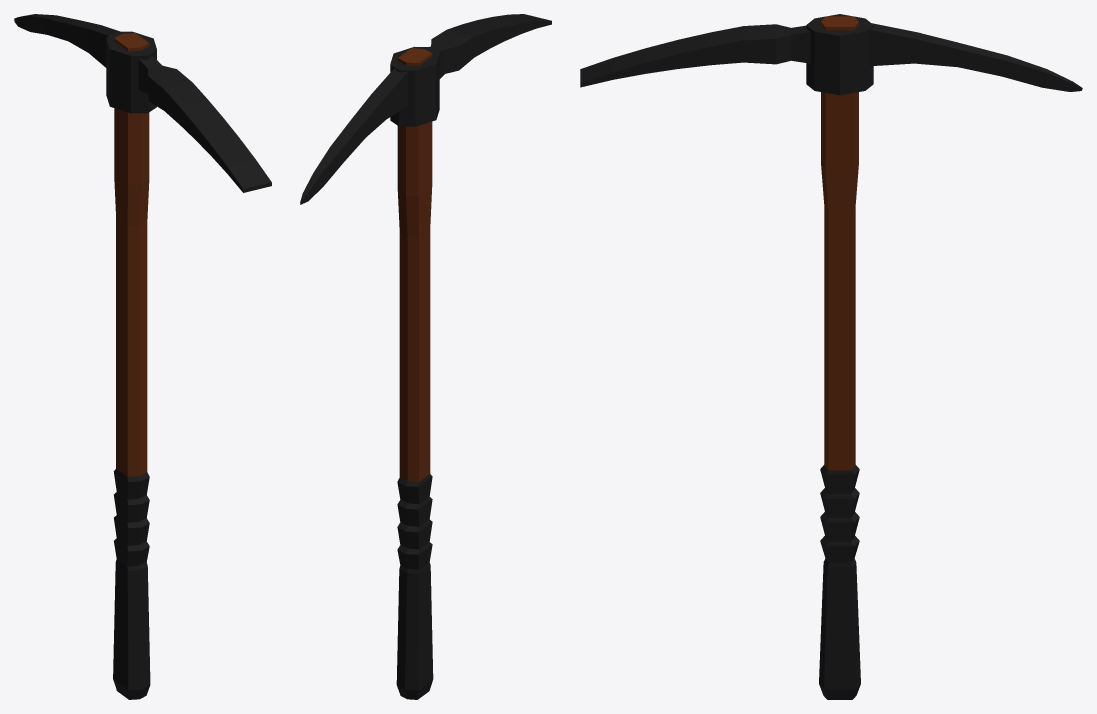
Rendered from Pickaxe.glb.
3 renders of one model, left to right at view 1: azimuth 30°, elevation 25°; view 2: azimuth 150°, elevation 25°; view 3: azimuth 270°, elevation 25°, orthographic. The views are drawn at different scales.
Parts seen in each view (by area): view 1: Pickaxe; view 2: Pickaxe; view 3: Pickaxe.
Part boxes in pixels (bbox=[...]): Pickaxe: bbox=[14, 14, 271, 699]; Pickaxe: bbox=[300, 14, 551, 699]; Pickaxe: bbox=[580, 14, 1082, 699].
Bounding box in the file's own units: 0.0587 × 0.8367 × 0.5656.
1 material, 1 textured.
